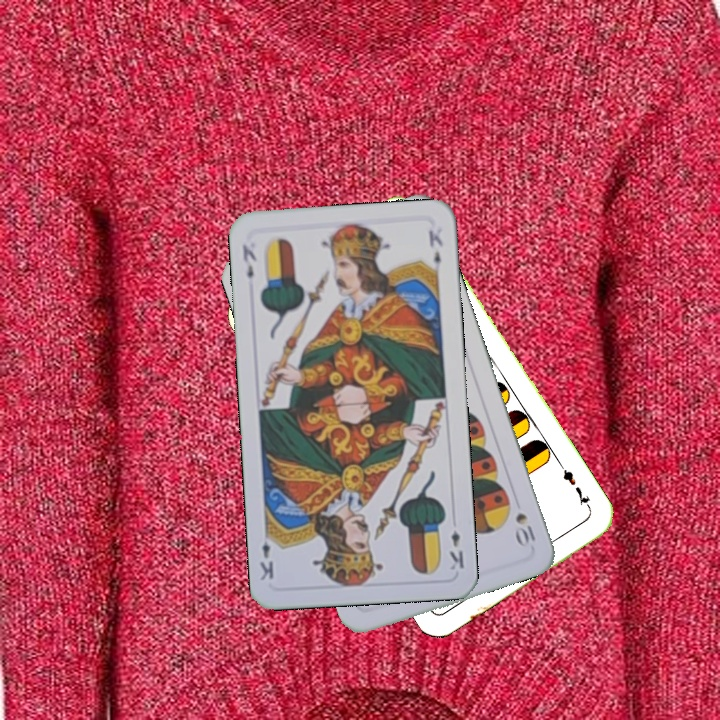E7: (556, 461, 594, 514)
EK: (446, 526, 467, 573), (238, 240, 259, 281)
S10: (511, 508, 538, 547)
